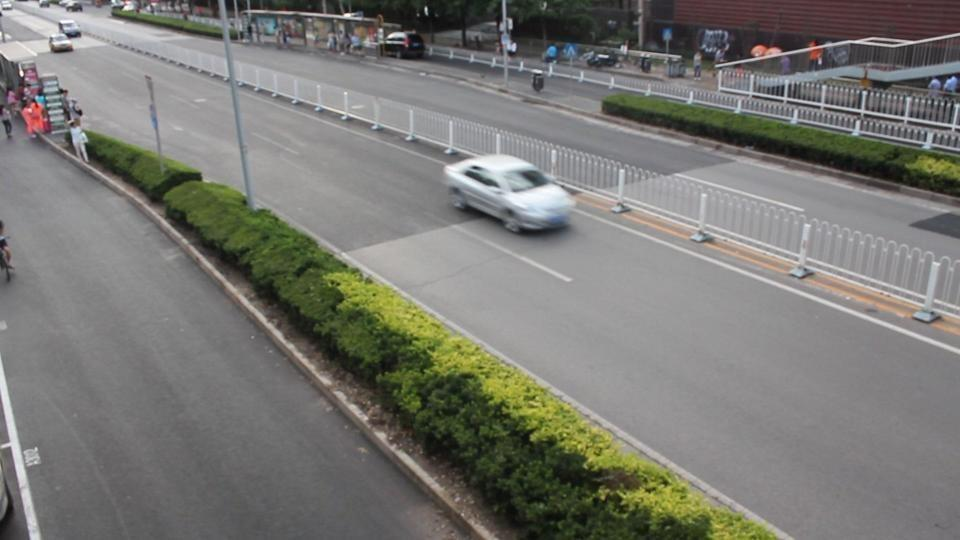car: (444, 153, 576, 234), (381, 31, 426, 60), (579, 51, 616, 68), (48, 34, 74, 53), (59, 19, 82, 39), (62, 0, 84, 12), (0, 0, 15, 12), (38, 0, 50, 7)
